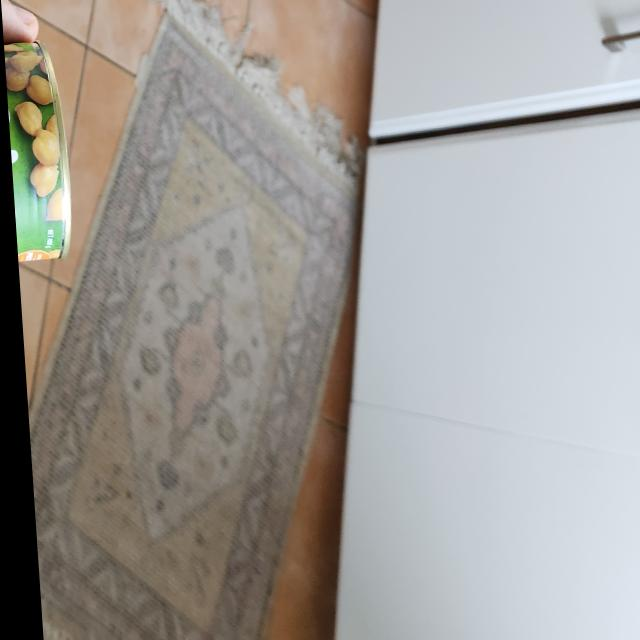chickpeas: (2, 34, 71, 278)
